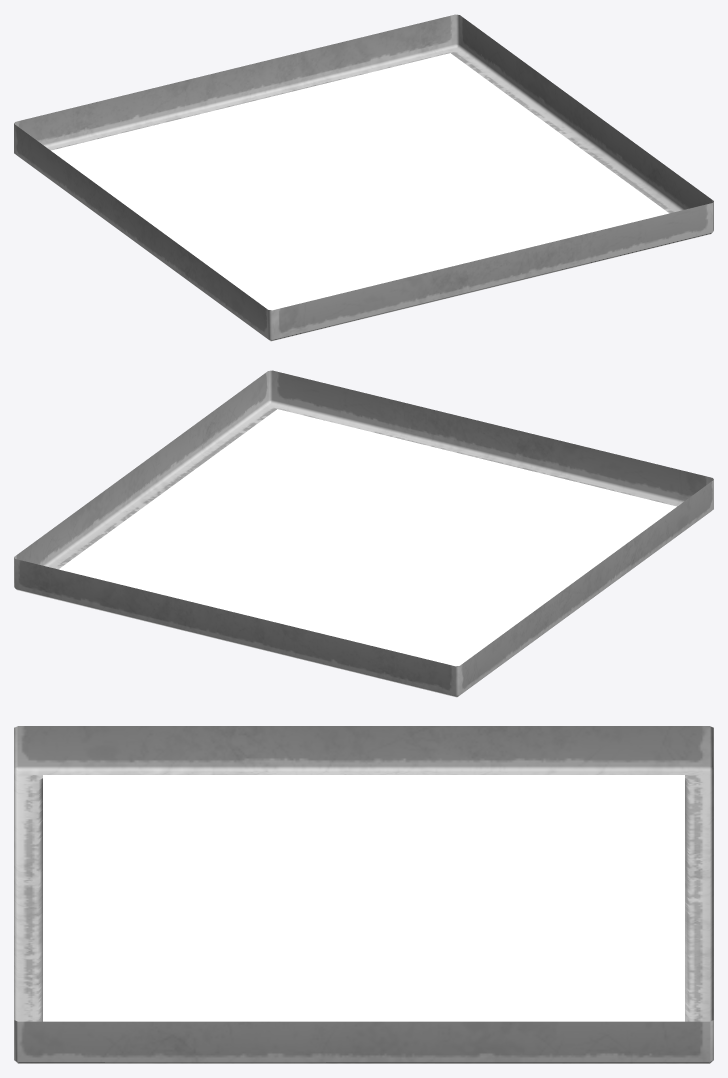
The model's file is CeilingLight.fbx.
3 views of the same model, one above another, from view 1: azimuth 30°, elevation 25°; view 2: azimuth 150°, elevation 25°; view 3: azimuth 270°, elevation 25° (orthographic). The views are drawn at different scales.
Parts seen in each view (by area): view 1: CeilingLight; view 2: CeilingLight; view 3: CeilingLight.
Part boxes in pixels (x1=…): CeilingLight: x1=14, y1=14, x2=713, y2=341; CeilingLight: x1=14, y1=370, x2=713, y2=697; CeilingLight: x1=14, y1=726, x2=713, y2=1063.
Bounding box in the file's own units: 67.95 × 4.71 × 67.95.
